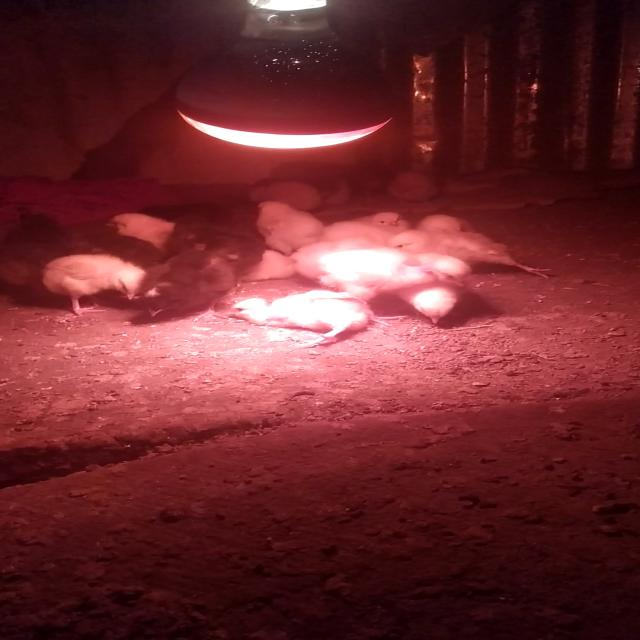chick: (311, 247, 469, 327), (222, 288, 372, 349), (386, 230, 554, 281), (144, 250, 246, 323), (40, 253, 146, 318), (248, 200, 327, 252), (326, 211, 411, 251), (245, 180, 327, 214), (100, 212, 178, 246), (236, 244, 299, 283), (412, 214, 473, 252), (386, 168, 439, 207)
